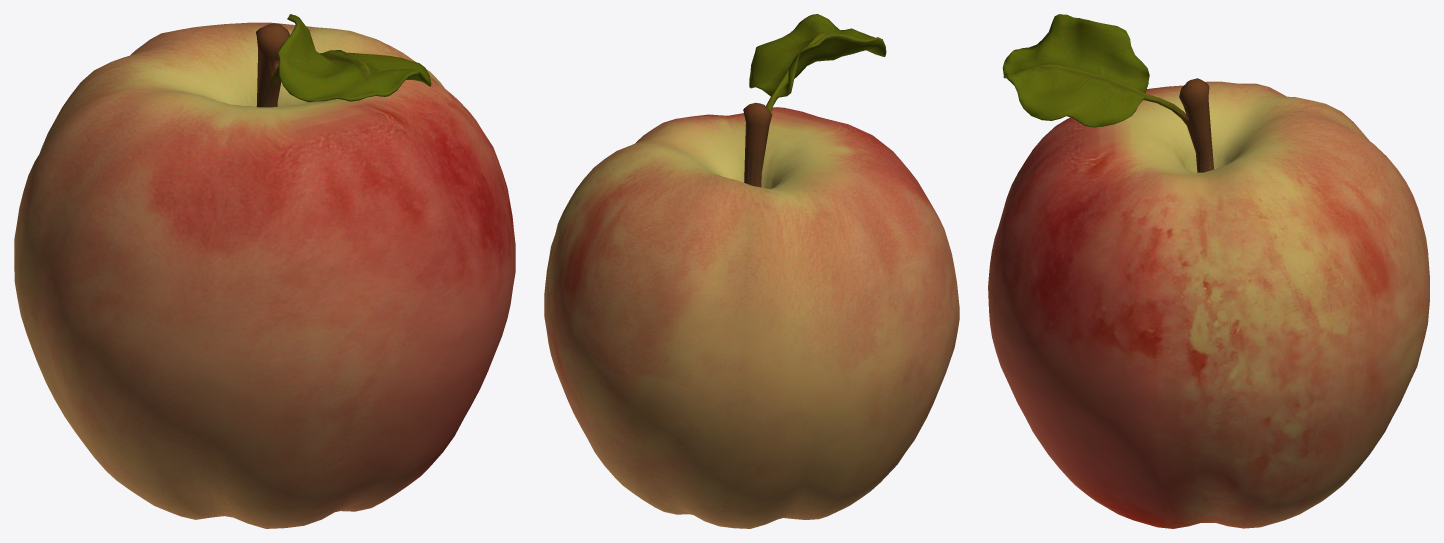
The picture shows the model from 3 angles, left to right: view 1: azimuth 30°, elevation 25°; view 2: azimuth 150°, elevation 25°; view 3: azimuth 270°, elevation 25°; orthographic projection. The views are drawn at different scales.
Parts seen in each view (by area): view 1: tripo_node_e3a3752f-022a-43ae-b8f8-a498c85b8fc0; view 2: tripo_node_e3a3752f-022a-43ae-b8f8-a498c85b8fc0; view 3: tripo_node_e3a3752f-022a-43ae-b8f8-a498c85b8fc0.
Part boxes in pixels (box(x1,y1,x2,y2)): tripo_node_e3a3752f-022a-43ae-b8f8-a498c85b8fc0: box(14, 14, 515, 528); tripo_node_e3a3752f-022a-43ae-b8f8-a498c85b8fc0: box(544, 14, 959, 528); tripo_node_e3a3752f-022a-43ae-b8f8-a498c85b8fc0: box(988, 14, 1429, 528).
Size of the model in its own units: 0.8865 by 1 by 0.8826.
1 material, 1 textured.
